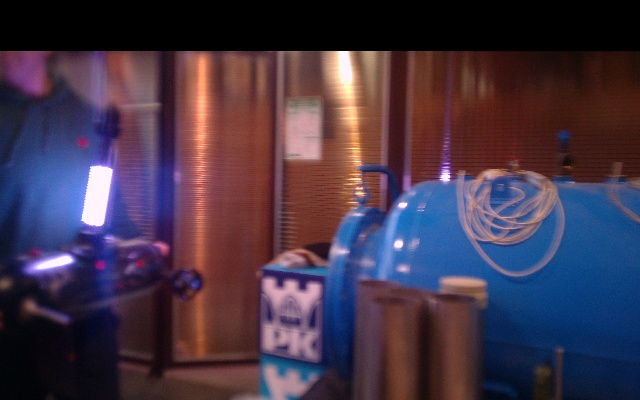white: (81, 164, 112, 226)
